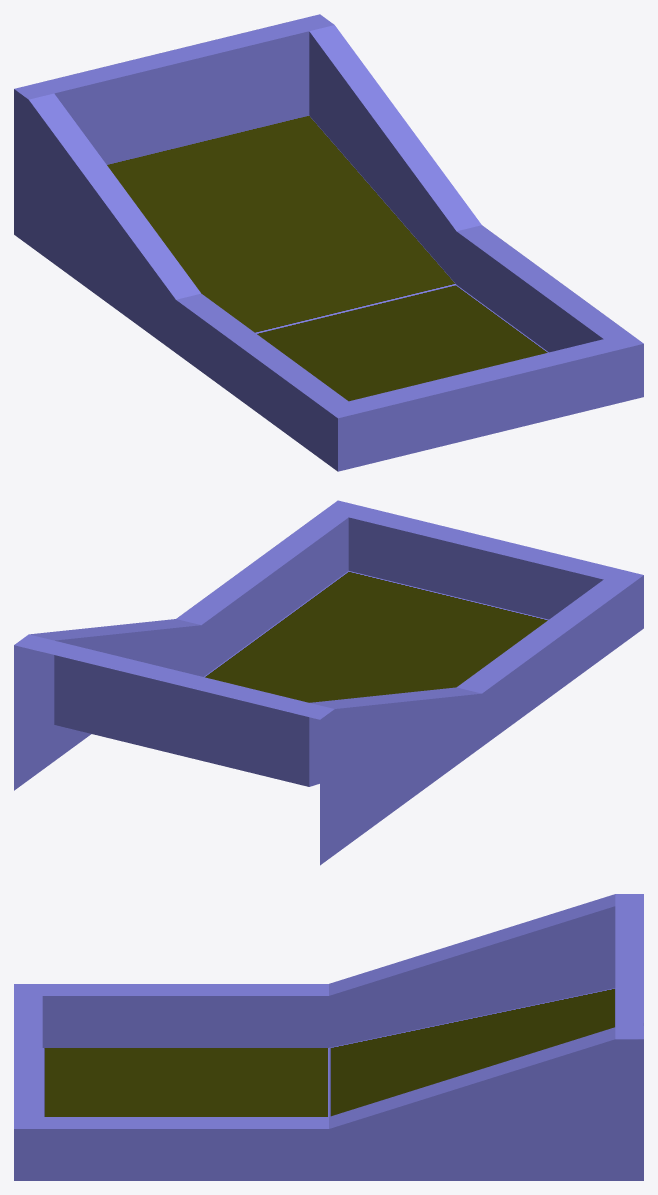
File: ramp.dae
The picture shows the model from 3 angles, top to bottom: view 1: azimuth 30°, elevation 25°; view 2: azimuth 150°, elevation 25°; view 3: azimuth 270°, elevation 25°; orthographic projection. The views are drawn at different scales.
Visible parts, largest first — view 1: Plane; view 2: Plane; view 3: Plane.
Part boxes in pixels (x1,y1,x2,y2): Plane: (14,14,643,471); Plane: (14,500,643,865); Plane: (14,894,643,1180).
Bounding box in the file's own units: 12 × 22 × 5.46.
Materials: 1 (1 with a texture image).
